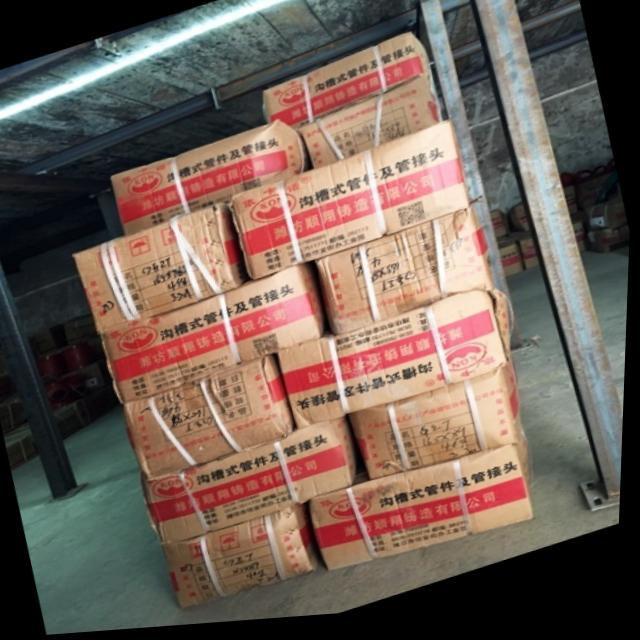box: (232, 126, 472, 284), (280, 289, 514, 433), (101, 265, 326, 404), (313, 443, 537, 578), (145, 420, 358, 547), (75, 204, 250, 332), (110, 124, 308, 236), (315, 217, 491, 340), (125, 356, 299, 480), (352, 373, 526, 485), (166, 507, 322, 614), (263, 34, 432, 131), (300, 82, 443, 174)
